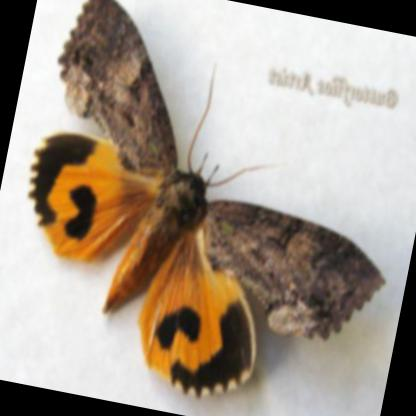fruit sucking moth: (27, 0, 385, 402)
